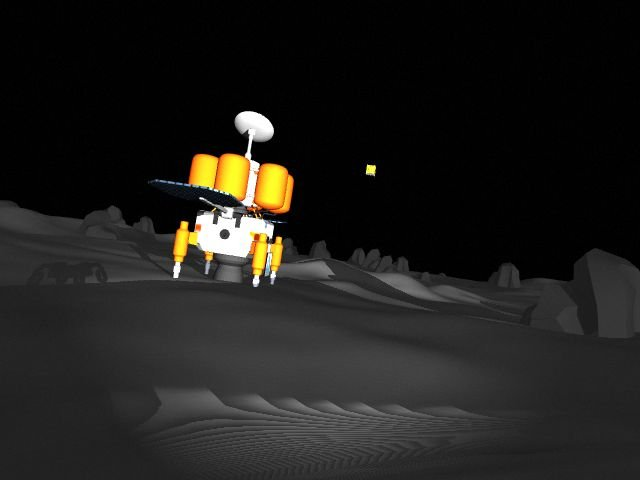cubesat: (365, 163, 377, 176)
